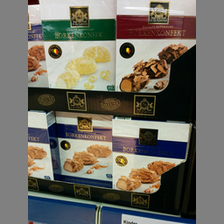chocolate: (115, 1, 194, 94), (39, 1, 115, 90), (110, 117, 193, 195), (54, 111, 114, 188)
